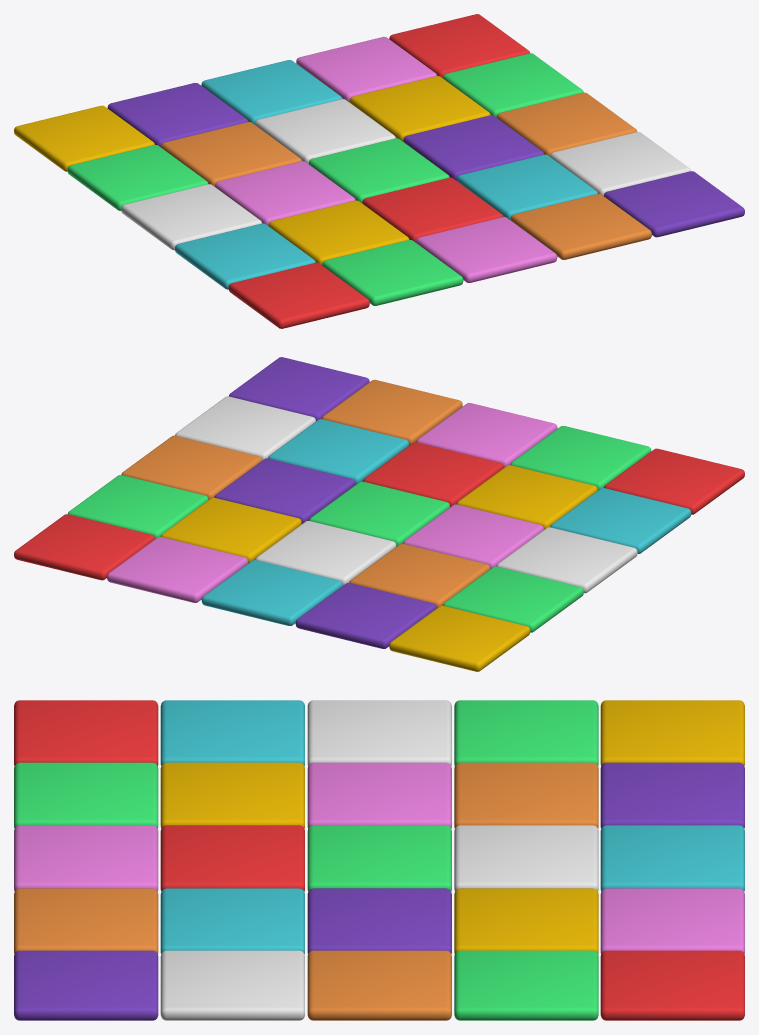
The picture shows the model from 3 angles, top to bottom: view 1: azimuth 30°, elevation 25°; view 2: azimuth 150°, elevation 25°; view 3: azimuth 270°, elevation 25°; orthographic projection. The views are drawn at different scales.
Parts seen in each view (by area): view 1: Cube.012, Cube.032, Cube.002, Cube.007, Cube.027, Cube.010, Cube.011, Cube.013, Cube.014, Cube.031, Cube.030, Cube.033 (+13 smaller); view 2: Cube.014, Cube.034, Cube.004, Cube.009, Cube.029, Cube.013, Cube.010, Cube.012, Cube.011, Cube.030, Cube.033, Cube.032 (+13 smaller); view 3: Cube.028, Cube.025, Cube.026, Cube.027, Cube.029, Cube, Cube.001, Cube.002, Cube.004, Cube.003, Cube.008, Cube.007 (+13 smaller).
Part boxes in pixels (x1,y1,x2,y2): Cube.012: (228,262,369,328); Cube.032: (510,194,651,259); Cube.002: (416,217,557,282); Cube.007: (322,240,463,305); Cube.027: (604,171,744,237); Cube.010: (121,184,261,250); Cube.011: (67,145,208,210); Cube.013: (175,223,315,289); Cube.014: (14,105,154,171); Cube.031: (349,76,490,141); Cube.030: (403,115,544,180); Cube.033: (457,154,597,220); Cube.014: (389,605,530,671); Cube.034: (107,537,248,602); Cube.004: (201,560,342,625); Cube.009: (295,583,436,648); Cube.029: (14,514,154,580); Cube.013: (550,488,691,553); Cube.010: (496,527,637,593); Cube.012: (604,448,744,514); Cube.011: (443,566,583,632); Cube.030: (214,458,355,523); Cube.033: (268,419,408,484); Cube.032: (322,379,462,445); Cube.028: (160,950,304,1020); Cube.025: (307,950,451,1020); Cube.026: (454,950,598,1020); Cube.027: (14,950,158,1020); Cube.029: (600,950,744,1020); Cube: (307,825,451,891); Cube.001: (454,825,598,891); Cube.002: (14,825,158,891); Cube.004: (600,825,744,891); Cube.003: (160,825,304,891); Cube.008: (160,762,304,828); Cube.007: (14,762,158,828).
Bounding box in the file's own units: 10.21 × 0.2 × 10.13.
